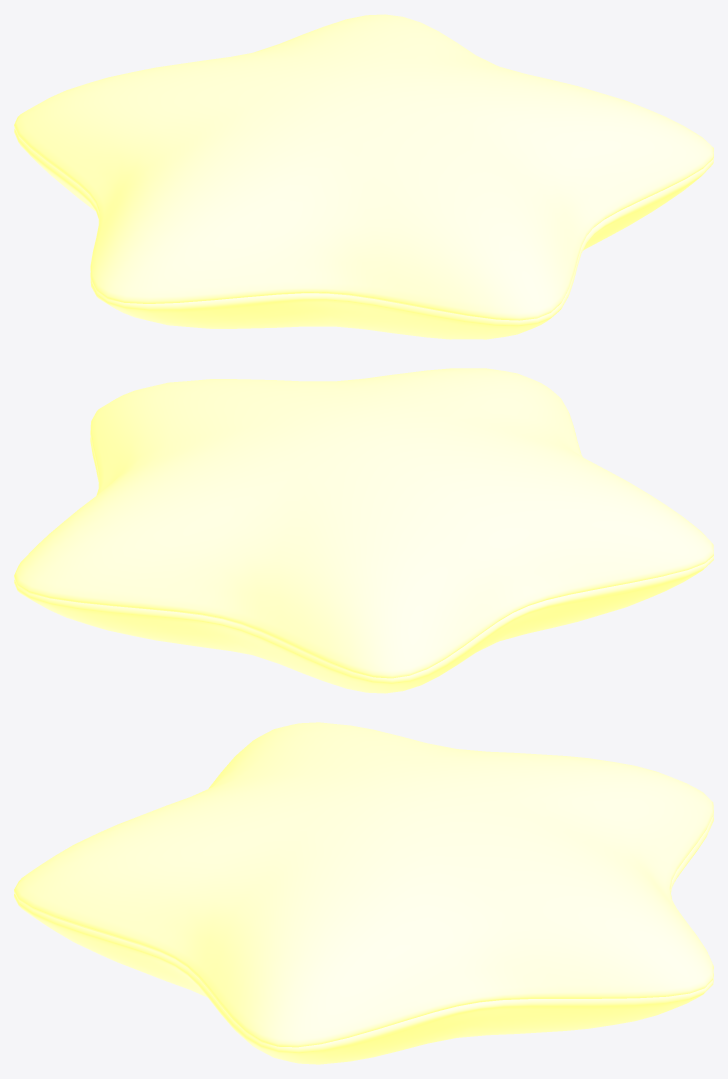
File: Star.gltf
3 renders of one model, top to bottom at view 1: azimuth 30°, elevation 25°; view 2: azimuth 150°, elevation 25°; view 3: azimuth 270°, elevation 25°, orthographic. The views are drawn at different scales.
Visible parts, largest first — view 1: Object_4; view 2: Object_4; view 3: Object_4.
Boxes of the visible parts, <box> form: Object_4: <box>14,14,713,339</box>; Object_4: <box>14,368,713,693</box>; Object_4: <box>14,722,713,1064</box>.
Bounding box in the file's own units: 1.62 × 0.5025 × 1.56.
Materials: 1 (1 with a texture image).
